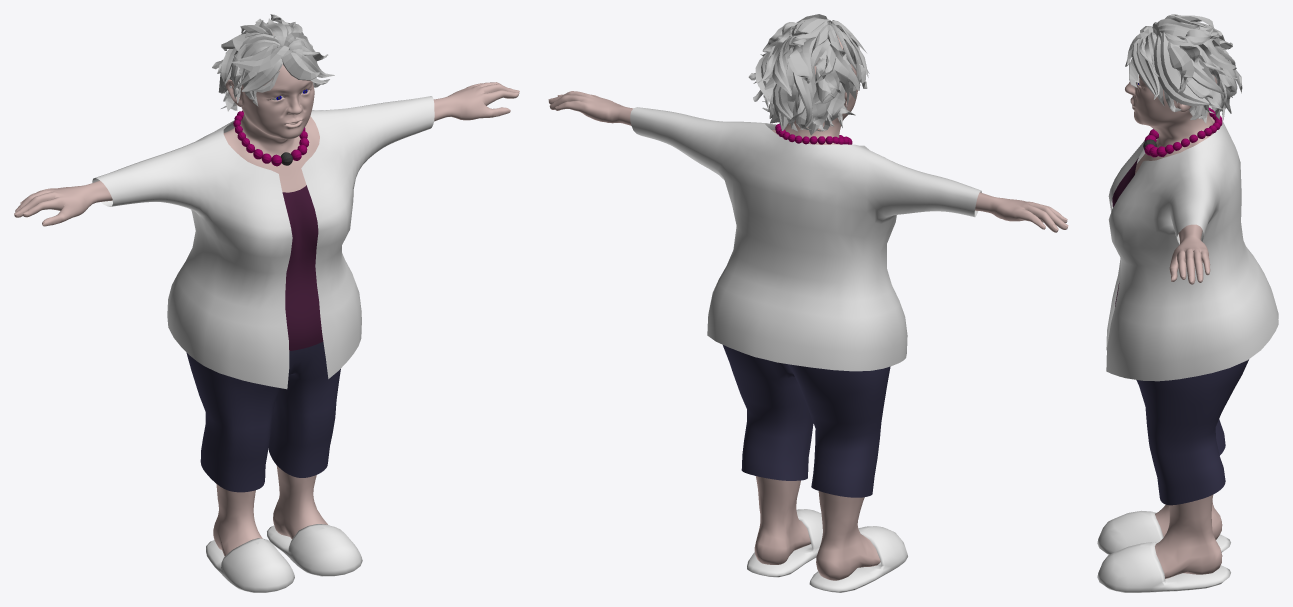
Rendered from Prof_reduced_smart_version.fbx.
3 renders of one model, left to right at view 1: azimuth 30°, elevation 25°; view 2: azimuth 150°, elevation 25°; view 3: azimuth 270°, elevation 25°, orthographic. The views are drawn at different scales.
Parts seen in each view (by area): view 1: jacket1, trousers6, pasted__polySurface278, shirt1, polySurface242, polySurface582, polySurface578.001, polySurface317, polySurface577, polySurface578, polySurface185; view 2: jacket1, trousers6, polySurface577, polySurface317, polySurface582, polySurface578.001, polySurface242, polySurface578, pasted__polySurface278, polySurface103; view 3: jacket1, trousers6, polySurface317, polySurface242, pasted__polySurface278, polySurface582, polySurface578, polySurface140, polySurface185, polySurface115, polySurface117, polySurface577 (+9 smaller).
Boxes of the visible parts, x1,y1,x2,y2 form: jacket1: (92, 96, 434, 389); trousers6: (186, 342, 340, 492); pasted__polySurface278: (223, 33, 319, 192); shirt1: (282, 185, 323, 351); polySurface242: (267, 524, 362, 576); polySurface582: (206, 538, 294, 592); polySurface578.001: (14, 180, 112, 226); polySurface317: (273, 465, 327, 538); polySurface577: (213, 484, 262, 556); polySurface578: (433, 82, 519, 121); polySurface185: (233, 110, 309, 166); jacket1: (630, 107, 981, 371); trousers6: (723, 345, 890, 497); polySurface577: (816, 491, 880, 580); polySurface317: (754, 476, 810, 564); polySurface582: (809, 526, 907, 592); polySurface578.001: (975, 192, 1068, 232); polySurface242: (747, 509, 822, 577); polySurface578: (548, 91, 633, 125); pasted__polySurface278: (772, 35, 857, 144); polySurface103: (773, 62, 797, 119); jacket1: (1106, 105, 1278, 381); trousers6: (1136, 359, 1248, 505); polySurface317: (1155, 495, 1222, 578); polySurface242: (1097, 542, 1230, 592); pasted__polySurface278: (1125, 74, 1217, 174); polySurface582: (1097, 510, 1230, 554); polySurface578: (1169, 224, 1210, 284); polySurface140: (1153, 32, 1209, 106); polySurface185: (1143, 107, 1222, 157); polySurface115: (1132, 36, 1159, 99); polySurface117: (1167, 42, 1194, 92); polySurface577: (1155, 500, 1222, 539).
Size of the model in its own units: 3656 by 3674 by 1109.
